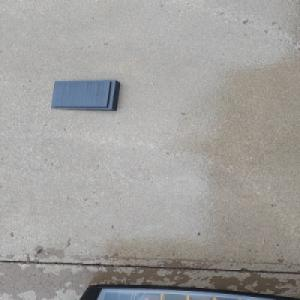PlasticPart: (49, 79, 121, 111)
